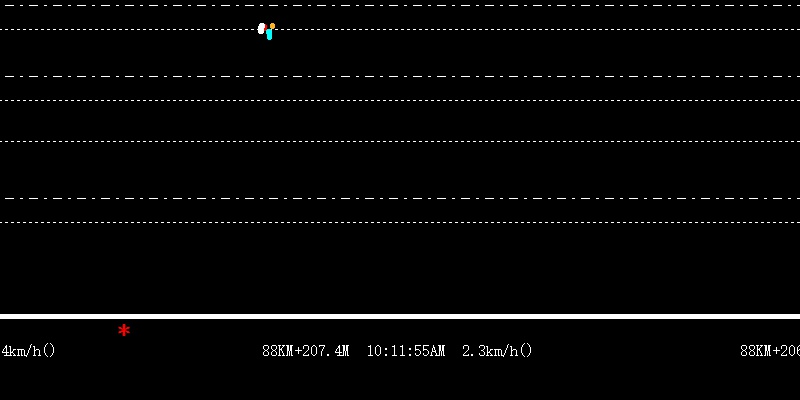face_2: (258, 21, 277, 41)
star: (116, 321, 130, 338)
